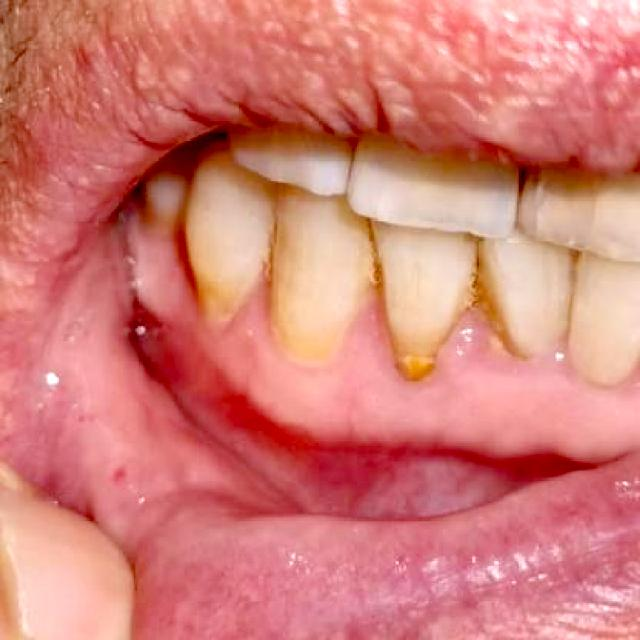Plaque: (221, 270, 518, 403), (384, 342, 433, 386)
